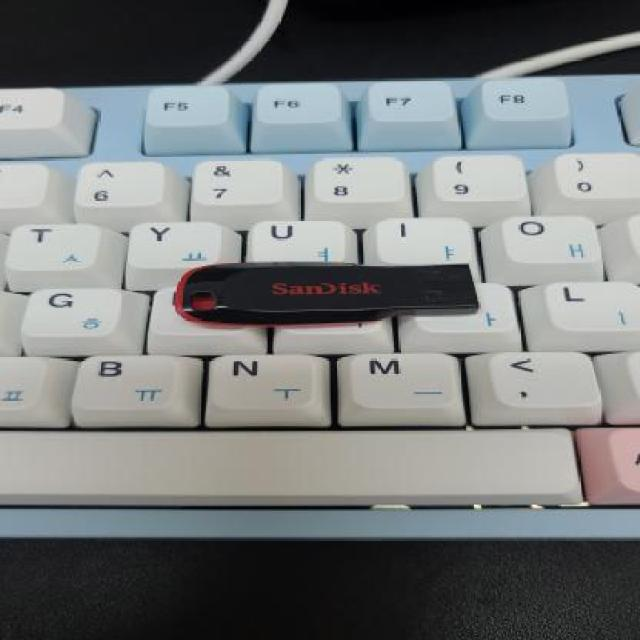Flashdisk: (172, 261, 483, 330)
